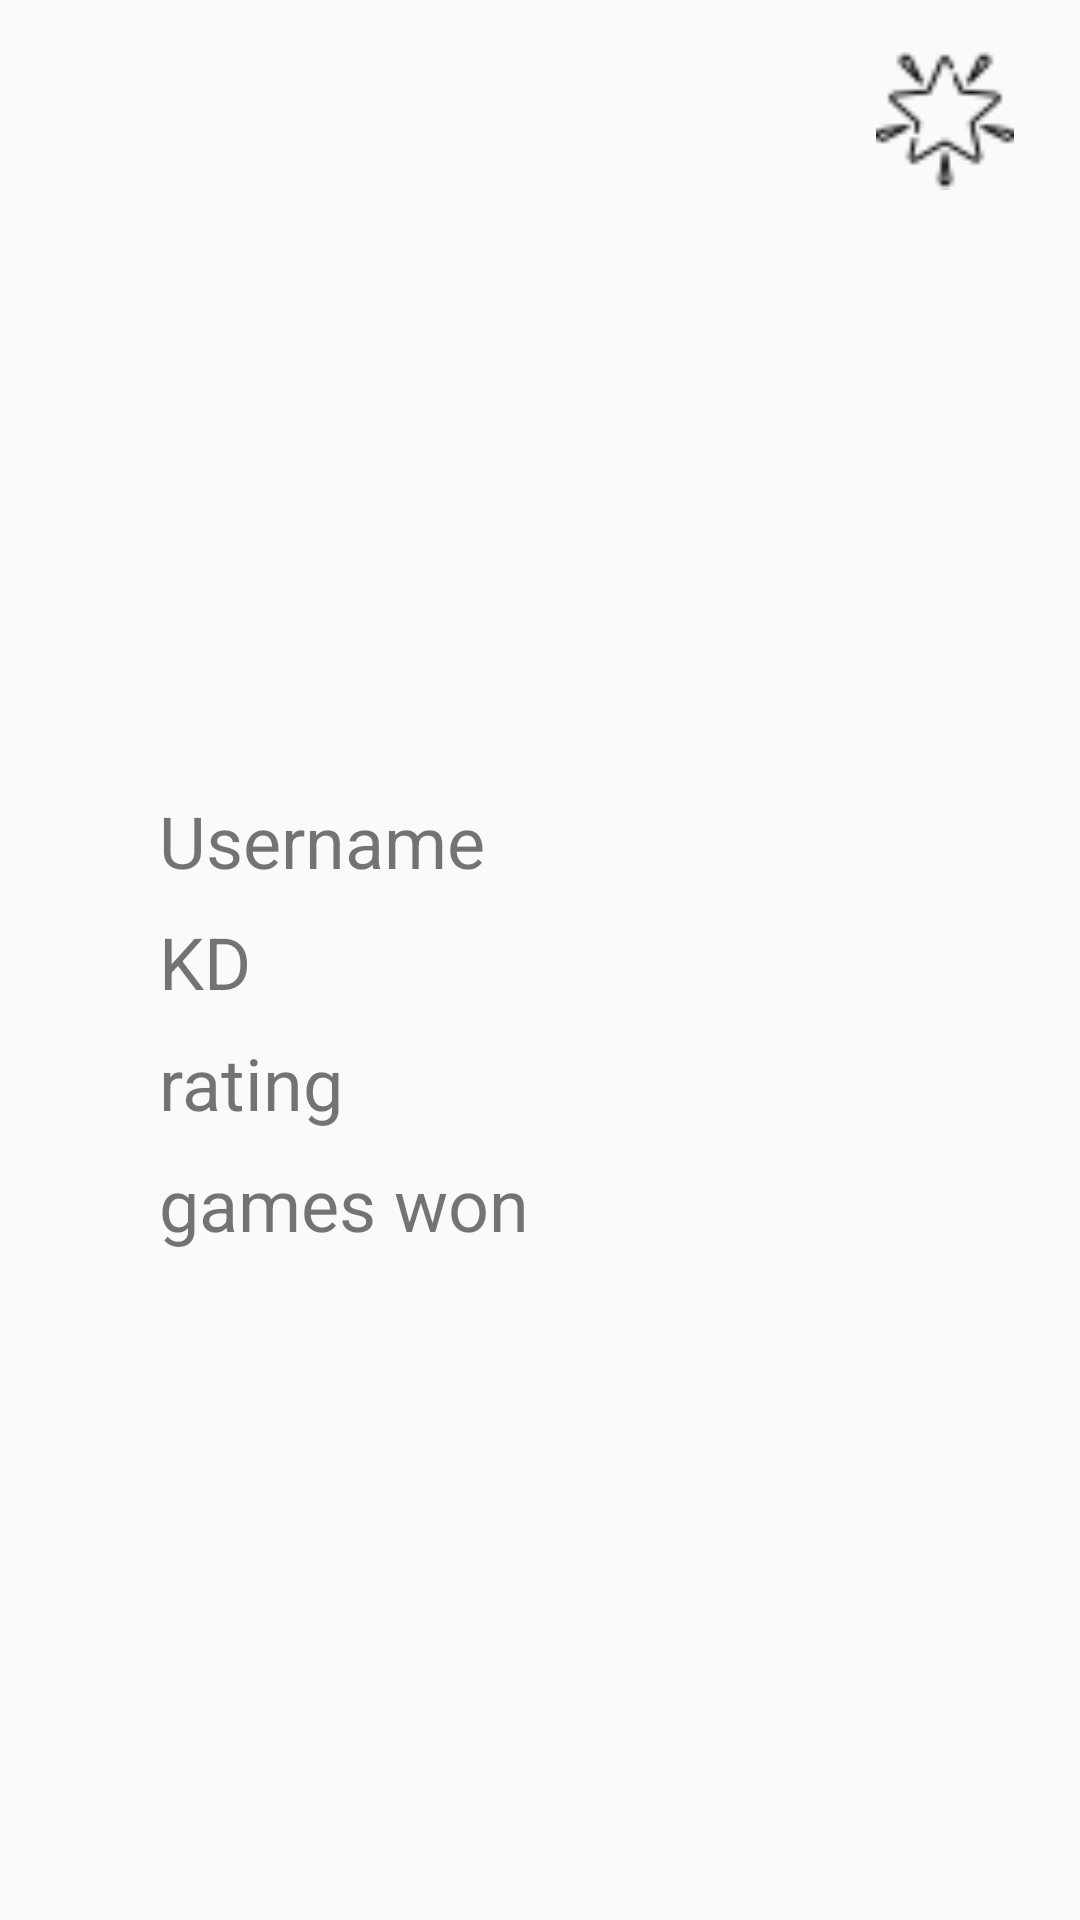

Icon bounding boxes for this 1080*1920 phone screenshot, format (x1, y1, x2, y2):
star empty: (876, 52, 1014, 190)
